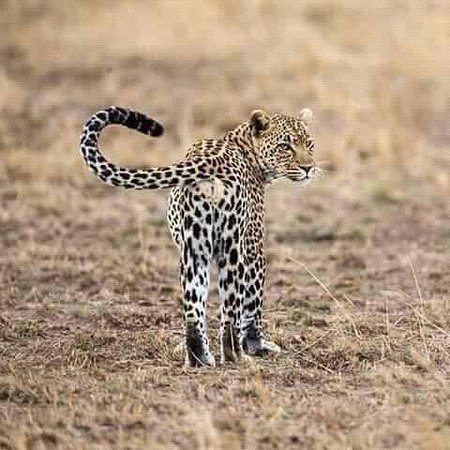leopard: (76, 103, 328, 371)
